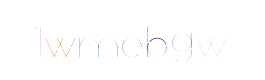1: (20, 0, 100, 80)
B: (110, 0, 190, 80)
E: (92, 0, 172, 80)
G: (118, 0, 198, 80)
M: (86, 0, 166, 80)
W: (64, 0, 144, 80), (122, 0, 202, 80)
